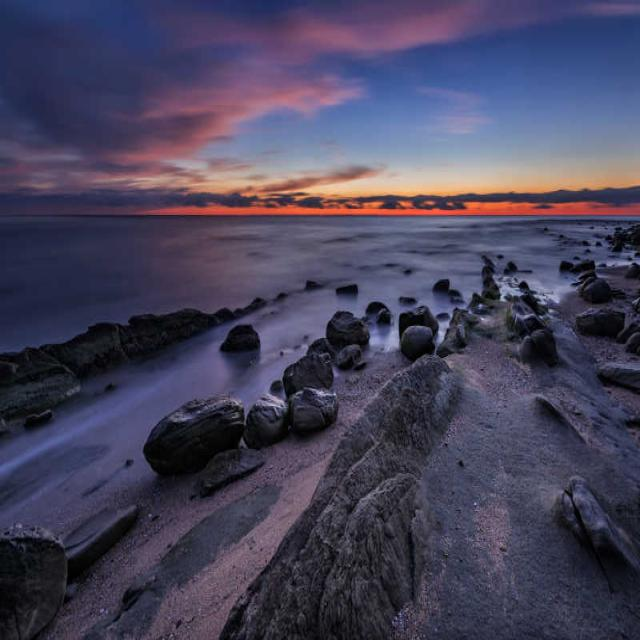reef: (125, 357, 349, 435), (45, 292, 235, 365), (321, 267, 453, 350), (464, 238, 602, 312)
